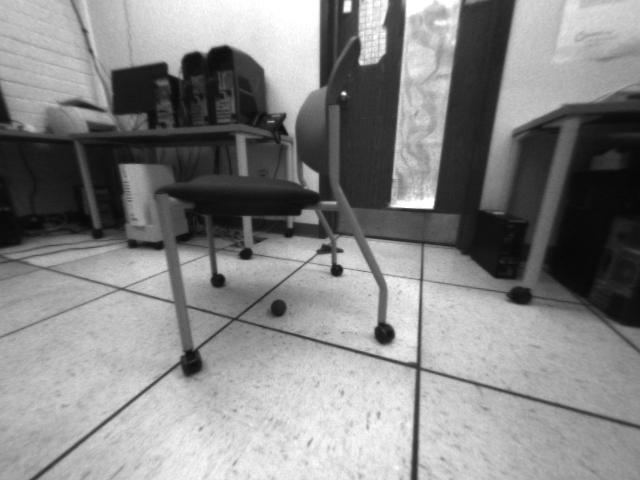dogtoy: (262, 294, 292, 322)
